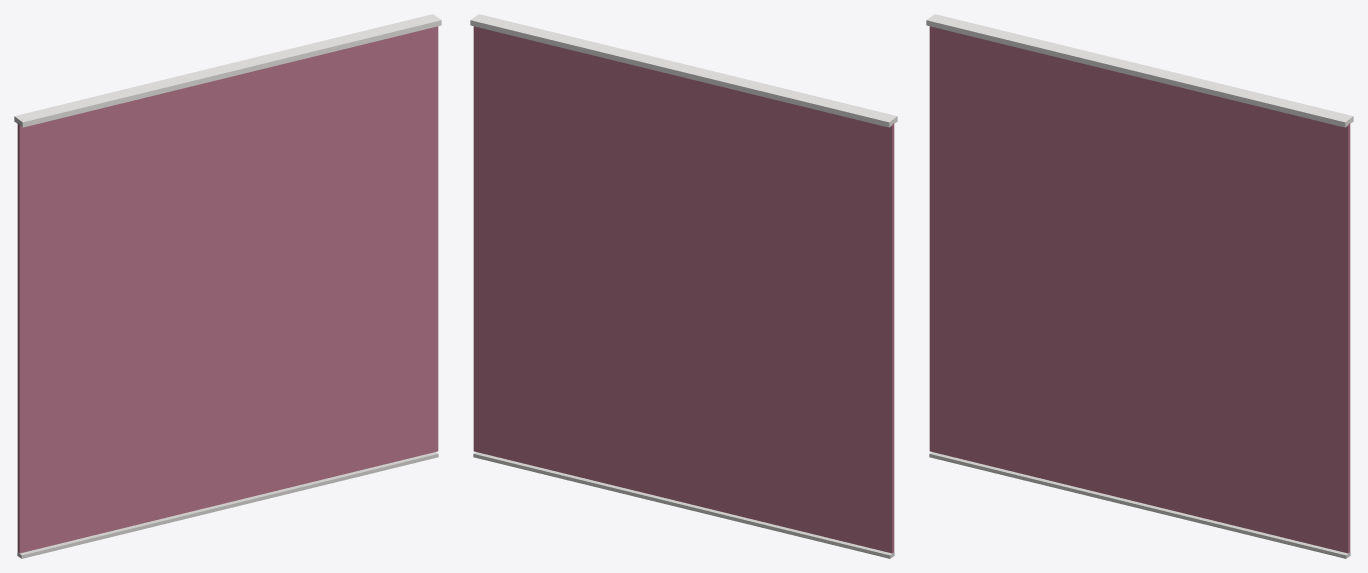
Rendered from persiana-enrollable-vinotinto.glb.
3 views of the same model, side by side, from view 1: azimuth 30°, elevation 25°; view 2: azimuth 150°, elevation 25°; view 3: azimuth 330°, elevation 25° (orthographic).
Visible parts, largest first — view 1: Tela, PerfilSuperior, Contrapeso; view 2: Tela, PerfilSuperior, Contrapeso; view 3: Tela, PerfilSuperior, Contrapeso.
Part boxes in pixels (bbox=[...]): Tela: bbox=[17, 26, 438, 553]; PerfilSuperior: bbox=[14, 14, 441, 127]; Contrapeso: bbox=[17, 452, 438, 558]; Tela: bbox=[473, 26, 894, 553]; PerfilSuperior: bbox=[470, 14, 897, 127]; Contrapeso: bbox=[473, 452, 894, 558]; Tela: bbox=[929, 26, 1350, 553]; PerfilSuperior: bbox=[926, 14, 1353, 127]; Contrapeso: bbox=[929, 452, 1350, 558].
Size of the model in its own units: 1 by 1 by 0.035.
